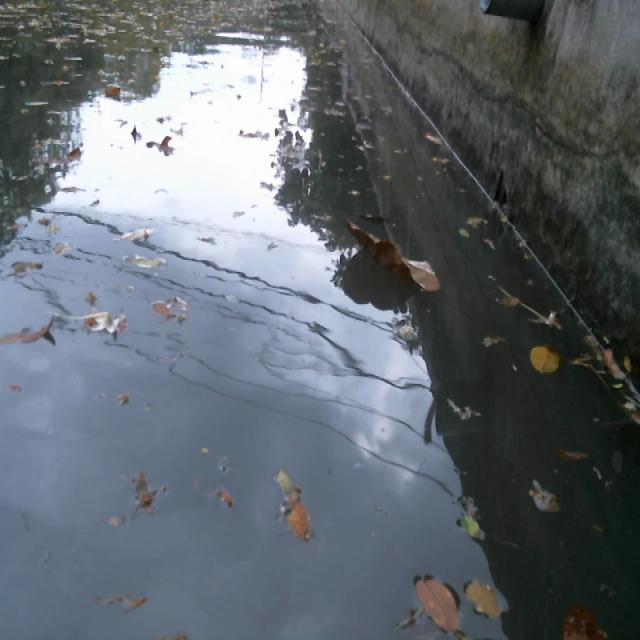Big-leaf: (341, 213, 445, 294)
Small-leaf: (409, 573, 465, 640), (460, 573, 515, 628), (554, 596, 613, 640), (1, 310, 58, 354), (283, 495, 321, 544), (521, 481, 568, 517), (91, 585, 151, 613), (442, 392, 487, 428), (84, 307, 130, 342), (527, 339, 562, 377), (115, 251, 169, 275), (130, 468, 158, 514), (454, 510, 489, 546), (113, 216, 160, 242), (272, 465, 298, 503), (145, 129, 178, 157), (552, 444, 592, 467), (212, 480, 238, 513), (494, 289, 526, 311), (146, 294, 173, 319), (54, 142, 84, 160), (462, 209, 488, 227), (102, 512, 130, 528), (100, 81, 125, 97), (482, 233, 498, 255), (430, 152, 452, 166), (7, 381, 25, 397), (423, 133, 442, 148), (453, 224, 471, 239), (605, 345, 612, 369)
